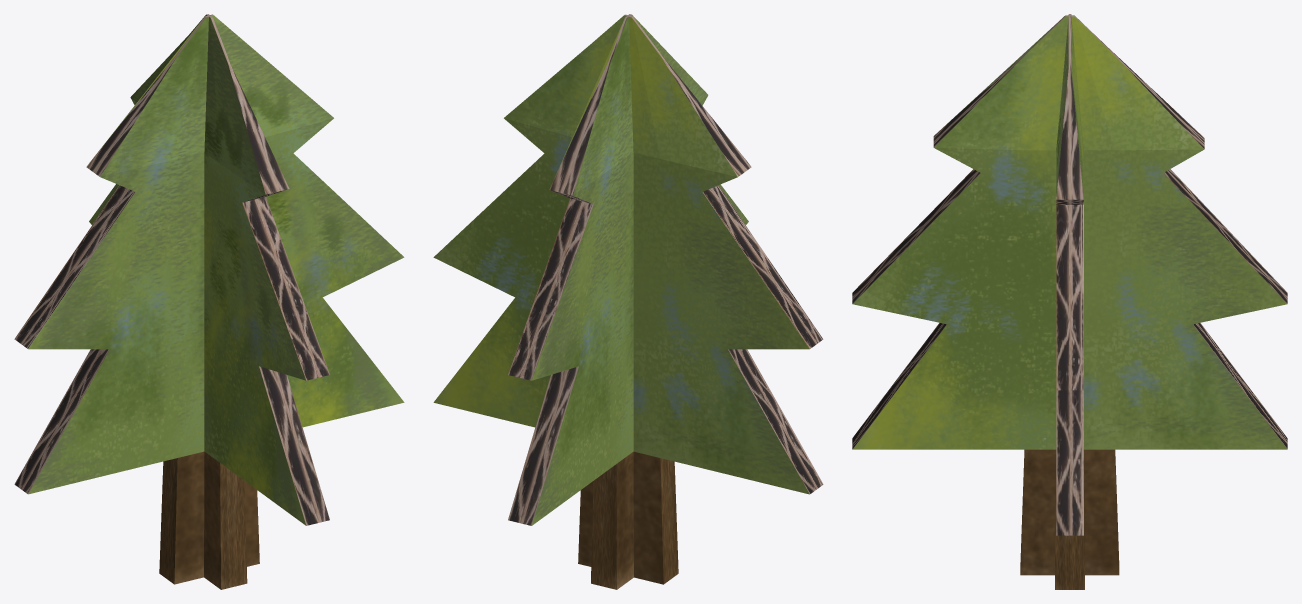
Rendered from baum_neu.fbx.
The picture shows the model from 3 angles, left to right: view 1: azimuth 30°, elevation 25°; view 2: azimuth 150°, elevation 25°; view 3: azimuth 270°, elevation 25°; orthographic projection.
Visible parts, largest first — view 1: Cube, Cube.001; view 2: Cube, Cube.001; view 3: Cube.001, Cube.
Part boxes in pixels (<box>): Cube: <box>14,14,404,584</box>; Cube.001: <box>89,14,329,589</box>; Cube: <box>433,14,823,584</box>; Cube.001: <box>508,14,748,589</box>; Cube.001: <box>852,15,1287,575</box>; Cube: <box>1055,14,1084,589</box>.
Size of the model in its own units: 286 by 401 by 286.
1 material, 1 textured.
